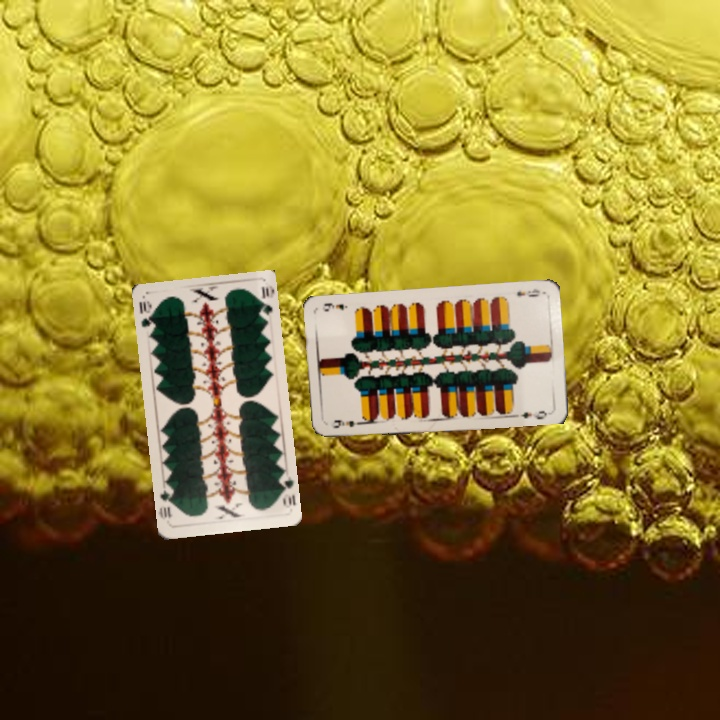E9: (329, 416, 365, 431), (513, 284, 542, 300)
G10: (275, 471, 298, 510), (135, 297, 156, 330)
